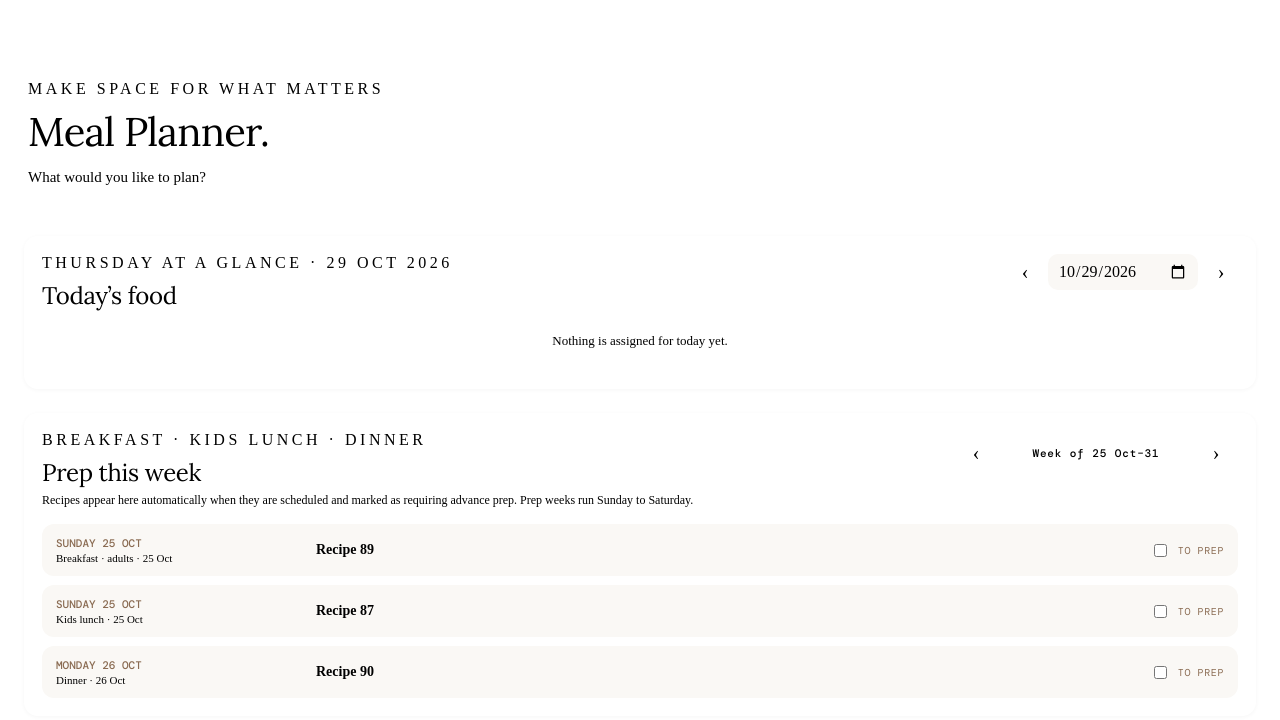
Scenario: Meal Planner overview lists scheduled prep recipes and records weekly completion separately
The width and height of the screenshot is (1280, 720).
Expected: the element with class "weeklyPrep" shows "Prep this week", [42,457,201,488]
Expected: the element with class "weeklyPrep" shows "Recipe 87", [56,597,1136,625]
Click the 2nd checkbox labelled "To prep". click: (1160, 611)
box: [1154,604,1167,618]
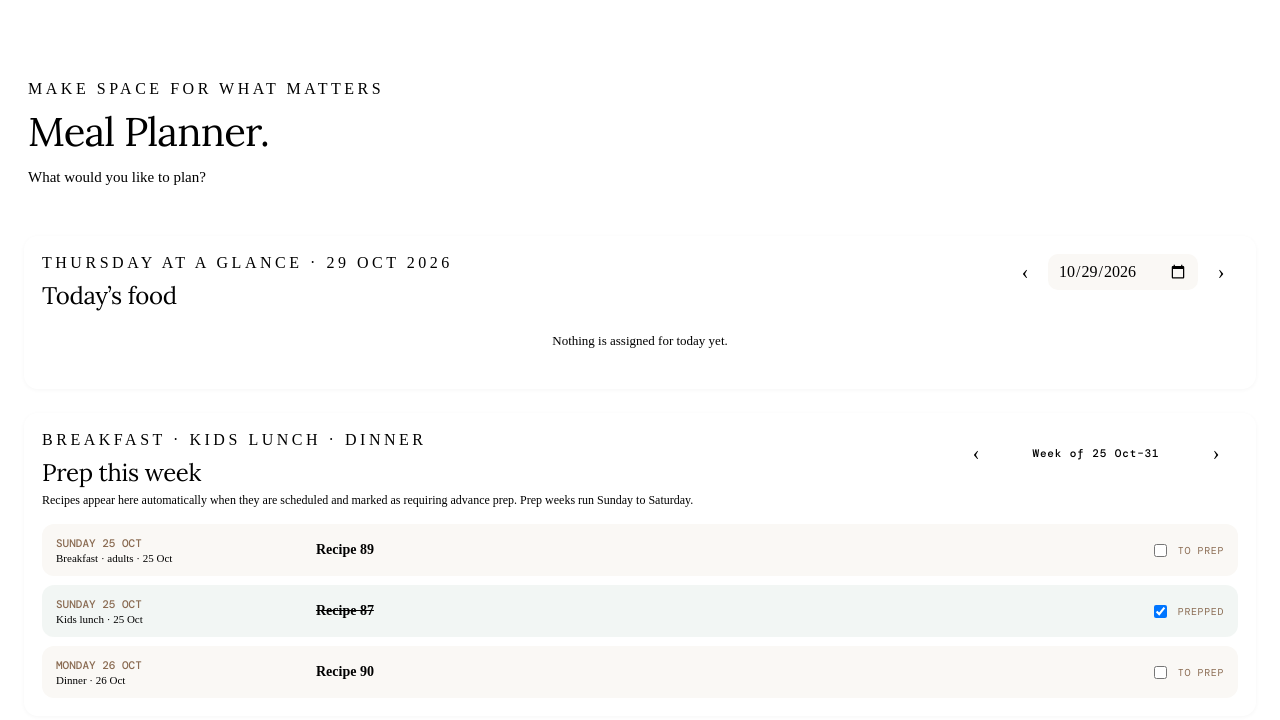
Now the checkbox labelled "Prepped" is checked, box [1154,604,1167,618]
Now the label "Prepped" is shown, box [1150,602,1224,620]
Click the button with aria-label "View prep recipe: Recipe 87". click: (99, 604)
box: [56,597,1136,625]
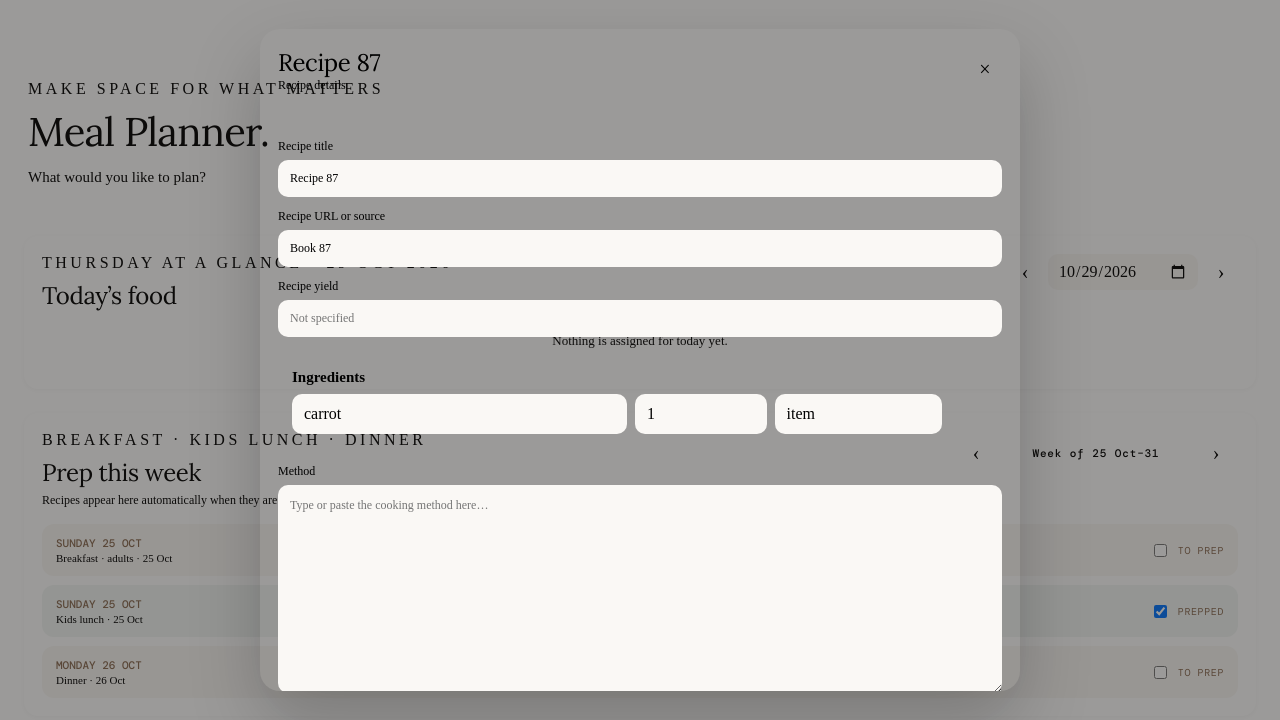
Now the dialog named "Recipe details for Recipe 87" is shown
